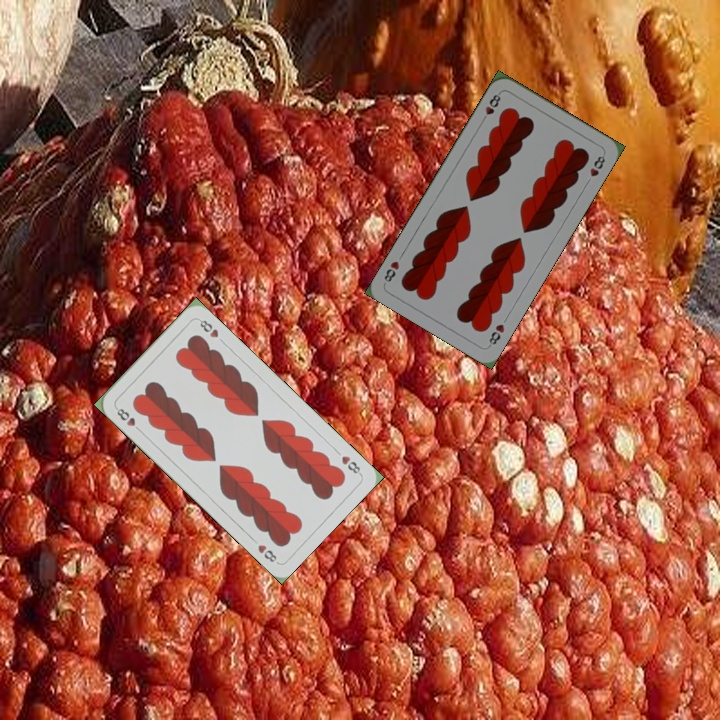H8: (112, 403, 144, 435), (477, 88, 503, 125), (337, 452, 364, 477), (485, 320, 507, 350)
